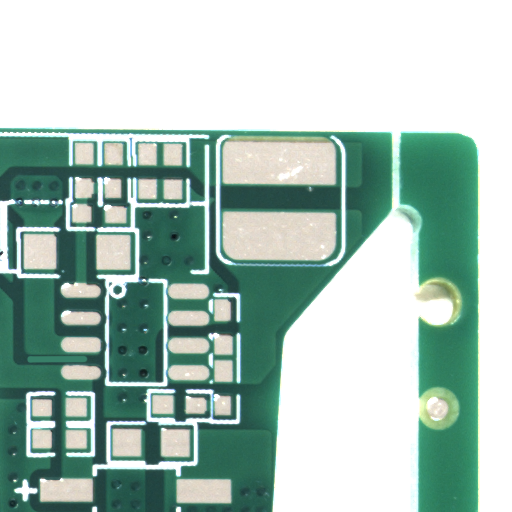Spurious_copper: (56, 359, 117, 368)
